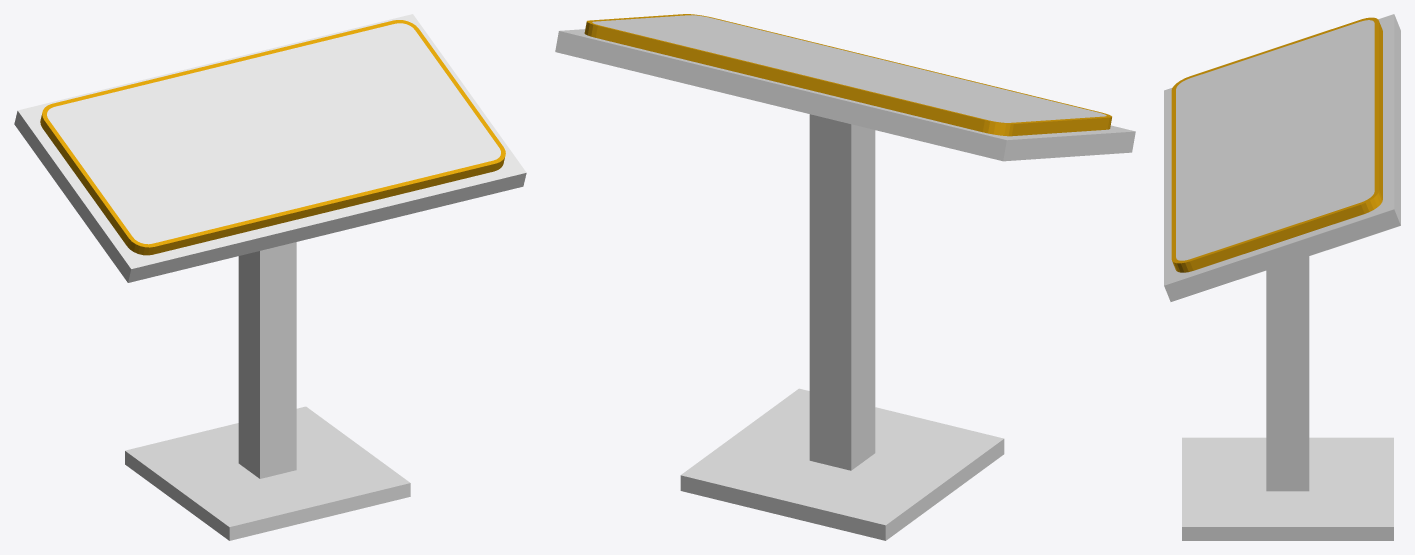
The model's file is Info PlaqueFloor.fbx.
3 views of the same model, side by side, from view 1: azimuth 30°, elevation 25°; view 2: azimuth 150°, elevation 25°; view 3: azimuth 270°, elevation 25° (orthographic). The views are drawn at different scales.
Visible parts, largest first — view 1: Stand Text goes here, Stand Leg 002, Stand.002, Stand For Text.002; view 2: Stand Leg 002, Stand Text goes here, Stand.002, Stand For Text.002; view 3: Stand Text goes here, Stand Leg 002, Stand.002, Stand For Text.002.
Boxes of the visible parts, x1,y1,x2,y2 form: Stand Text goes here: [47, 23, 500, 244]; Stand Leg 002: [125, 242, 410, 540]; Stand.002: [14, 14, 526, 282]; Stand For Text.002: [40, 20, 505, 255]; Stand Leg 002: [680, 114, 1004, 540]; Stand Text goes here: [592, 15, 1106, 122]; Stand.002: [555, 29, 1135, 161]; Stand For Text.002: [584, 14, 1111, 136]; Stand Text goes here: [1176, 20, 1374, 260]; Stand Leg 002: [1182, 256, 1393, 540]; Stand.002: [1164, 14, 1400, 301]; Stand For Text.002: [1171, 17, 1382, 272].
Bounding box in the file's own units: 186 × 174 × 95.53.
